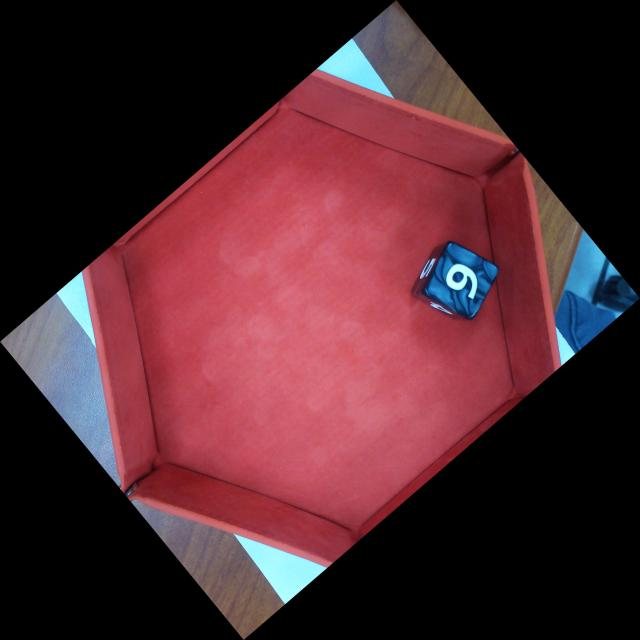dice: (419, 238, 502, 322)
